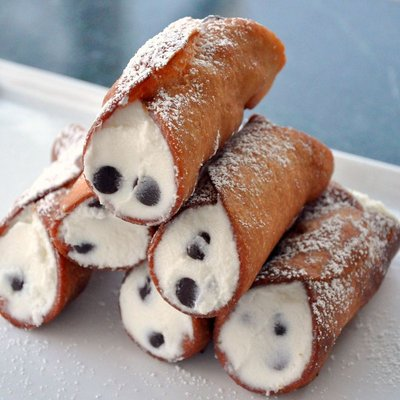curry: (1, 10, 388, 399)
salad: (213, 181, 400, 394)
